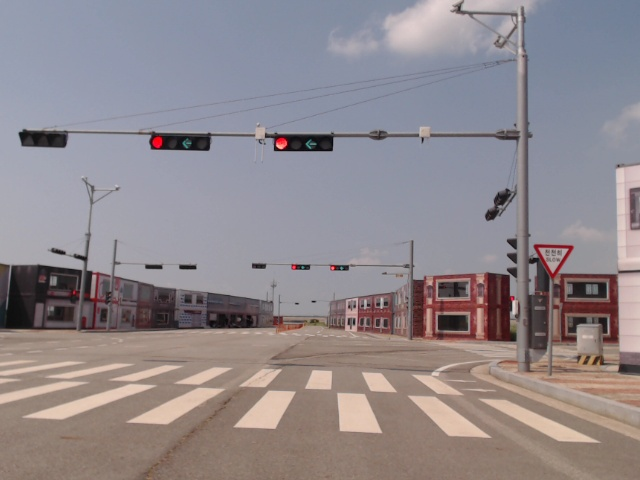left_green_4: (152, 135, 210, 151), (274, 136, 332, 151), (330, 265, 349, 271), (292, 264, 310, 270)
